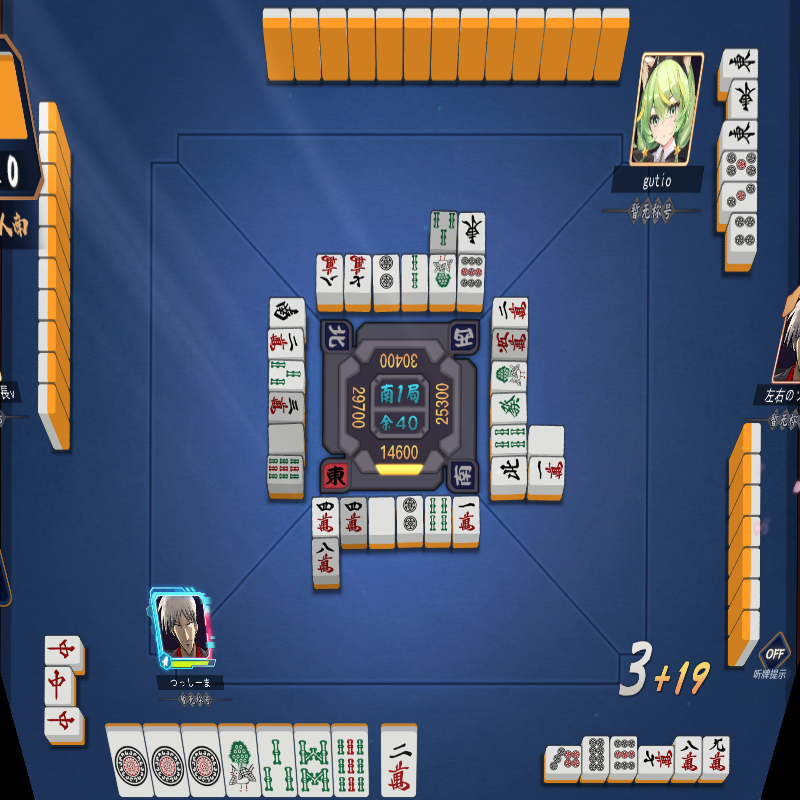1m: (528, 455, 566, 489), (451, 496, 480, 539)
1p: (105, 728, 149, 798), (147, 728, 189, 798), (184, 727, 226, 797)
1s: (222, 730, 262, 797), (428, 253, 457, 296), (490, 361, 528, 393)
1z: (721, 48, 760, 80), (458, 211, 486, 255), (729, 79, 759, 120), (722, 119, 758, 151)
2m: (380, 730, 419, 798), (267, 328, 305, 361), (491, 297, 530, 329)
2p: (394, 495, 424, 540), (372, 254, 400, 296)
2s: (399, 253, 429, 296)
2z: (268, 297, 305, 329)
3m: (267, 392, 304, 423)
3p: (722, 182, 758, 213)
3s: (259, 731, 298, 798), (268, 359, 305, 392), (430, 210, 457, 253)
4m: (339, 497, 368, 540), (312, 496, 340, 539)
4p: (728, 212, 758, 249)
4s: (489, 423, 528, 456), (424, 496, 453, 539)
4z: (488, 456, 528, 488)
5m: (492, 327, 528, 361)
5p: (722, 150, 758, 182)
5z: (526, 424, 566, 457), (367, 497, 396, 539), (268, 424, 305, 456)
6z: (490, 392, 528, 424)
7m: (344, 253, 372, 297), (638, 745, 674, 776)
7p: (545, 745, 582, 775)
7z: (44, 707, 83, 738), (44, 666, 74, 706), (45, 636, 82, 667)
8m: (316, 253, 345, 297), (311, 538, 340, 580), (674, 736, 702, 777)
8p: (582, 736, 609, 776)
8s: (294, 731, 335, 797)
9m: (702, 735, 730, 777)
9p: (457, 254, 485, 296), (610, 736, 638, 775)
9s: (332, 732, 369, 797), (267, 455, 303, 484)
